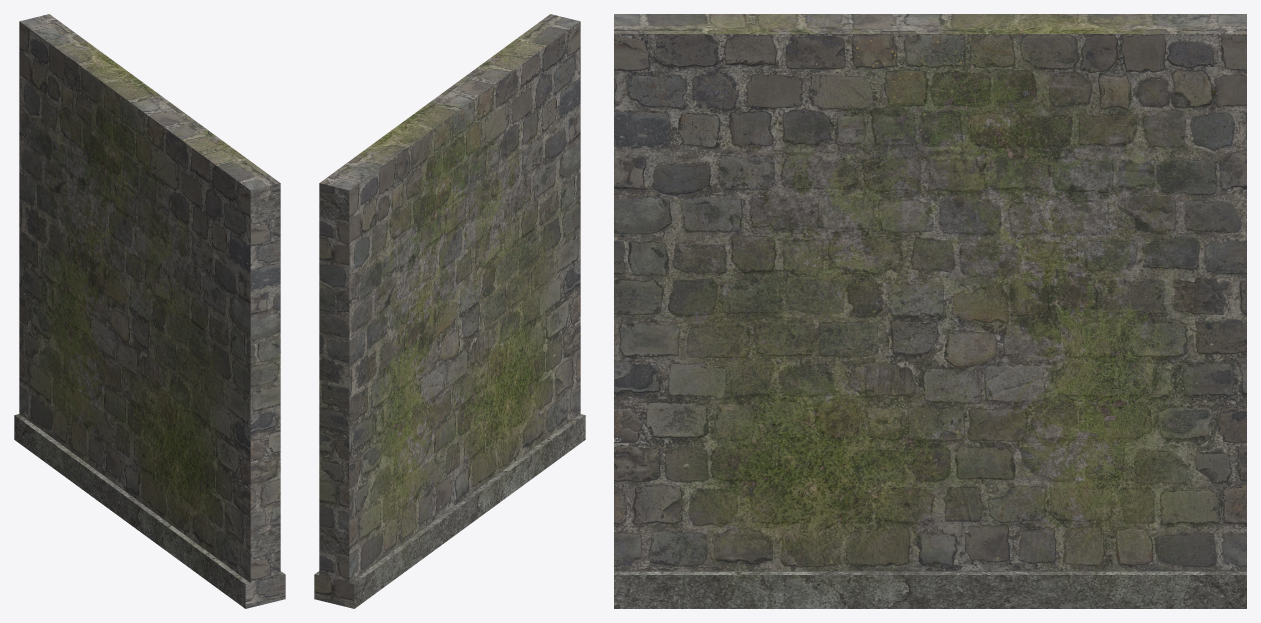
File: Wall_Lvl2_3.fbx
3 views of the same model, side by side, from view 1: azimuth 30°, elevation 25°; view 2: azimuth 150°, elevation 25°; view 3: azimuth 270°, elevation 25° (orthographic). The views are drawn at different scales.
Parts seen in each view (by area): view 1: wall.002; view 2: wall.002; view 3: wall.002.
Boxes of the visible parts, x1=… form: wall.002: x1=14, y1=14, x2=285, y2=608; wall.002: x1=314, y1=14, x2=585, y2=608; wall.002: x1=614, y1=14, x2=1246, y2=608.
Size of the model in its own units: 40 by 399 by 400.
Materials: 1 (1 with a texture image).
